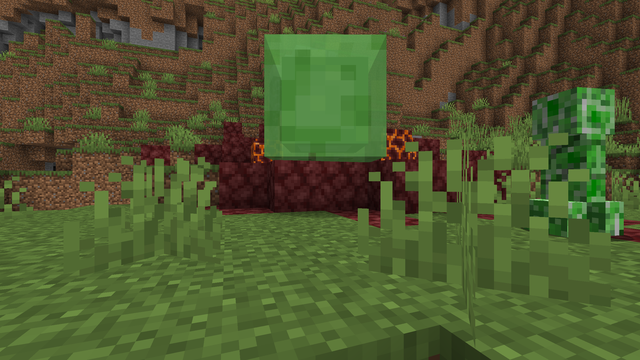creepers: (526, 76, 620, 238)
slimes: (264, 16, 398, 163)
